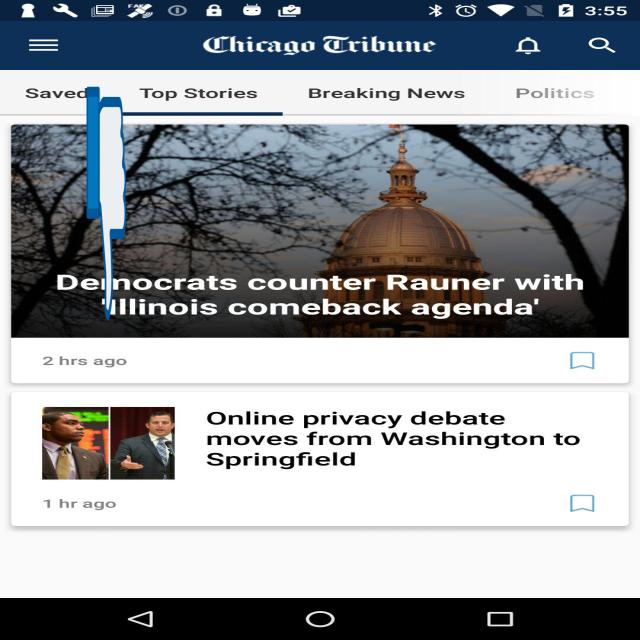obstruction: (87, 82, 126, 325)
